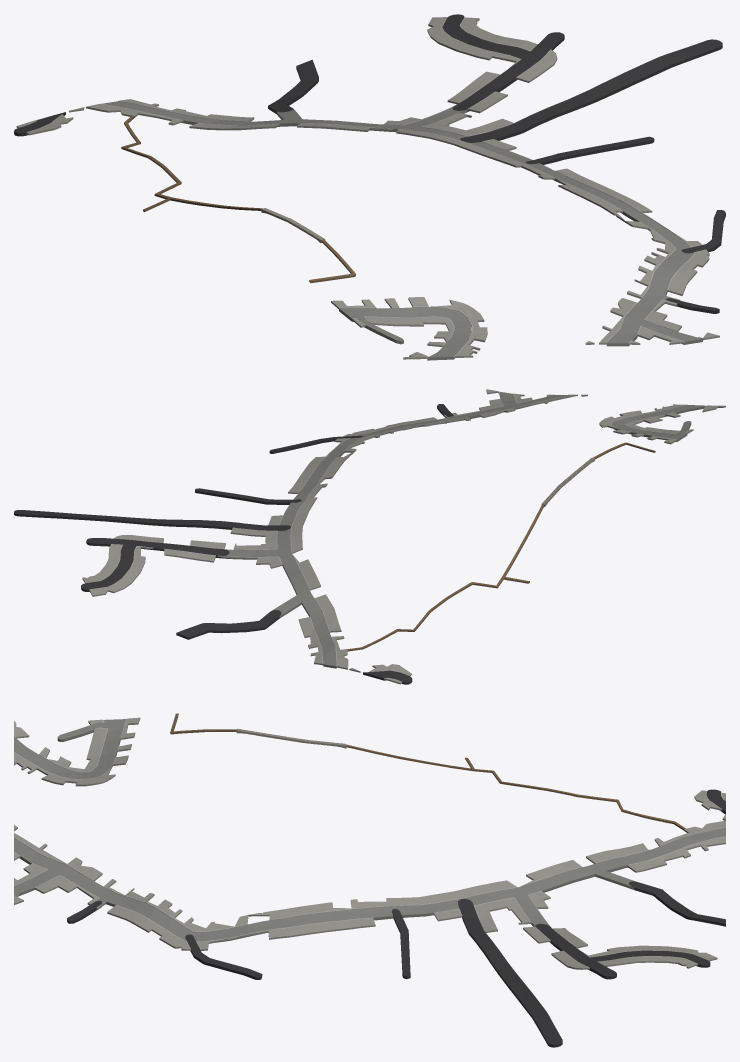
The picture shows the model from 3 angles, top to bottom: view 1: azimuth 30°, elevation 25°; view 2: azimuth 150°, elevation 25°; view 3: azimuth 270°, elevation 25°; orthographic projection. The views are drawn at different scales.
Size of the model in its own units: 259 by 38.31 by 292.
